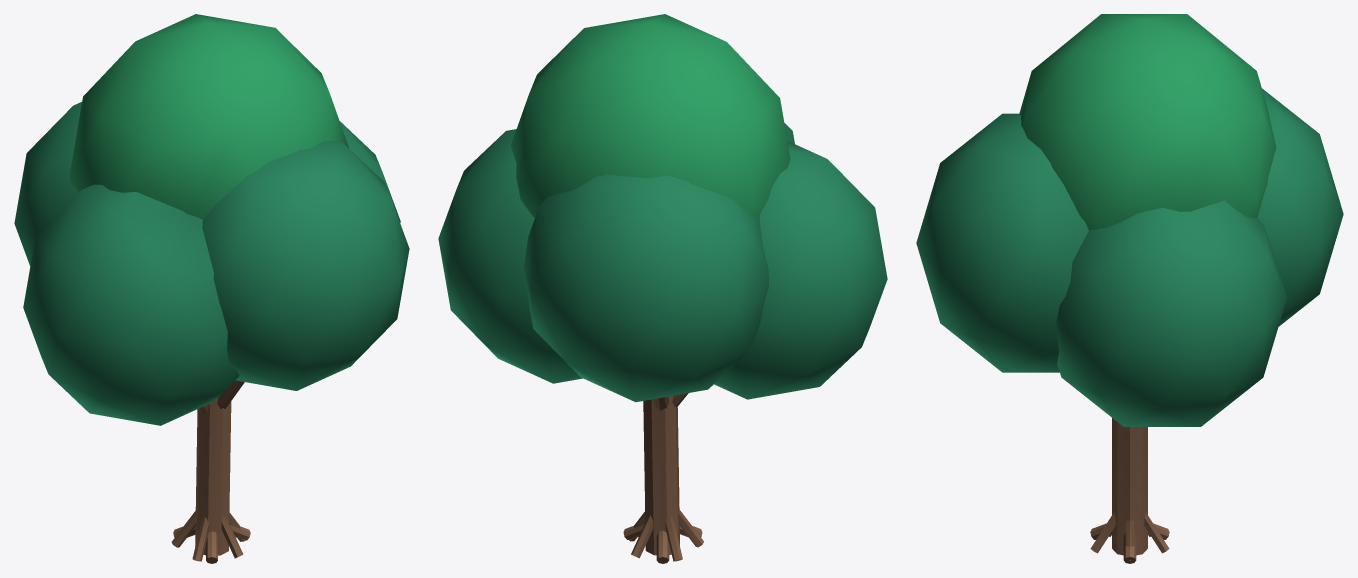
The model's file is tree-oak.glb.
The picture shows the model from 3 angles, left to right: view 1: azimuth 30°, elevation 25°; view 2: azimuth 150°, elevation 25°; view 3: azimuth 270°, elevation 25°; orthographic projection. The views are drawn at different scales.
Parts seen in each view (by area): view 1: rounded crown, rounded crown.004, branch; view 2: rounded crown, rounded crown.004, branch; view 3: rounded crown, rounded crown.004, branch.
Boxes of the visible parts, x1,y1,x2,y2 form: rounded crown: [14, 102, 409, 425]; rounded crown.004: [69, 14, 349, 219]; branch: [171, 380, 250, 563]; rounded crown: [438, 123, 887, 402]; rounded crown.004: [511, 14, 790, 217]; branch: [623, 393, 703, 563]; rounded crown: [916, 88, 1343, 426]; rounded crown.004: [1019, 14, 1276, 230]; branch: [1090, 418, 1169, 563].
Size of the model in its own units: 2.46 by 3.29 by 2.4.
